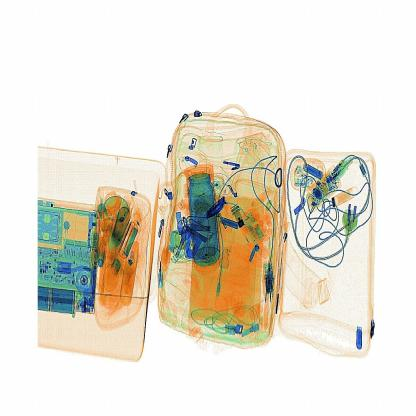knife: (209, 196, 230, 221)
